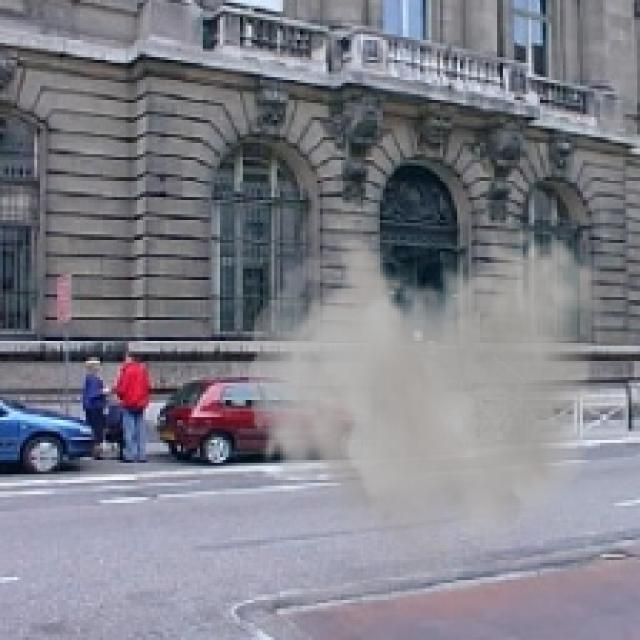Smoke: (248, 226, 606, 592)
